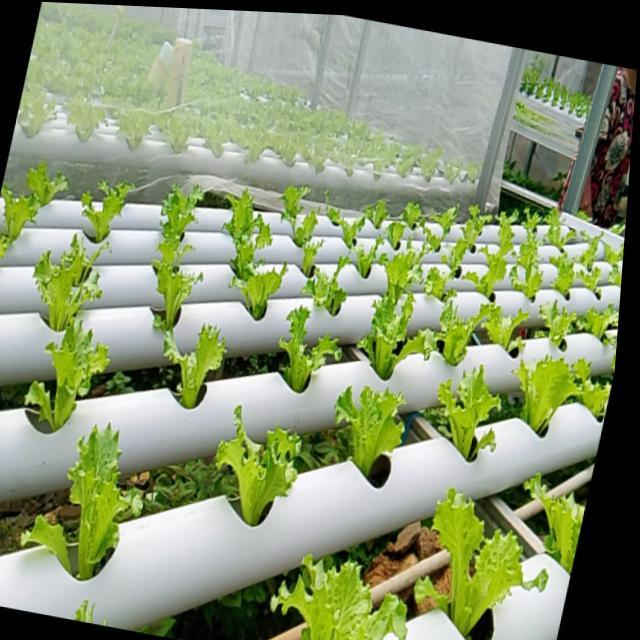Baby: (418, 486, 551, 632), (274, 554, 410, 640), (71, 426, 144, 582), (325, 193, 458, 277), (217, 407, 303, 528), (28, 322, 112, 434), (154, 189, 203, 342), (337, 388, 407, 488), (36, 238, 107, 335), (437, 366, 503, 461), (280, 308, 343, 395), (426, 296, 503, 367), (515, 352, 582, 433), (166, 327, 227, 411), (225, 191, 271, 295), (226, 192, 272, 281), (280, 186, 324, 278), (304, 259, 364, 318), (0, 189, 45, 262), (232, 266, 289, 323), (84, 185, 135, 246), (511, 215, 545, 301), (380, 243, 425, 305), (545, 208, 577, 248), (246, 280, 280, 317), (553, 251, 577, 295), (425, 267, 451, 300), (580, 234, 603, 270), (424, 225, 448, 254)
